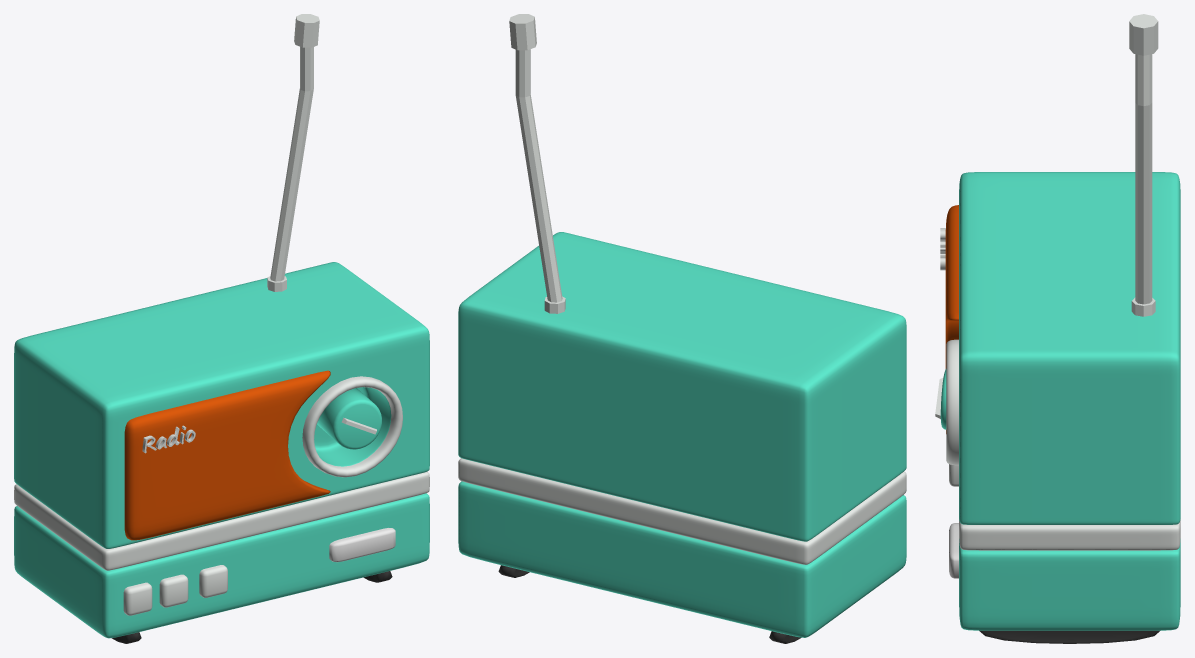
The model's file is radio.fbx.
3 renders of one model, left to right at view 1: azimuth 30°, elevation 25°; view 2: azimuth 150°, elevation 25°; view 3: azimuth 270°, elevation 25°, orthographic. The views are drawn at different scales.
Visible parts, largest first — view 1: radio, radio.002, tool, radio.001, antana, ring, rition control, button.003, button, button.001, button.002, Text; view 2: radio, radio.002, radio.001, antana; view 3: radio, radio.002, antana, radio.001, legs, tool, ring, button.003, rition control.
Part boxes in pixels (box(x1,y1,x2,y2)): radio: box(14, 262, 429, 548); radio.002: box(14, 493, 429, 638); tool: box(124, 370, 330, 540); radio.001: box(14, 471, 429, 570); antana: box(267, 14, 319, 291); ring: box(302, 376, 402, 477); rition control: box(317, 388, 381, 449); button.003: box(329, 528, 395, 562); button: box(123, 582, 152, 615); button.001: box(159, 574, 188, 607); button.002: box(199, 565, 227, 597); Text: box(142, 425, 195, 453); radio: box(458, 232, 906, 541); radio.002: box(458, 481, 906, 637); radio.001: box(458, 458, 906, 564); antana: box(509, 14, 565, 313); radio: box(959, 172, 1180, 524); radio.002: box(959, 539, 1180, 630); antana: box(1129, 14, 1158, 316); radio.001: box(959, 519, 1180, 550); legs: box(979, 630, 1160, 643); tool: box(945, 205, 958, 433); ring: box(946, 339, 958, 465); button.003: box(949, 523, 958, 578); rition control: box(935, 369, 946, 429).
Size of the model in its own units: 16 by 24.5 by 8.85.
